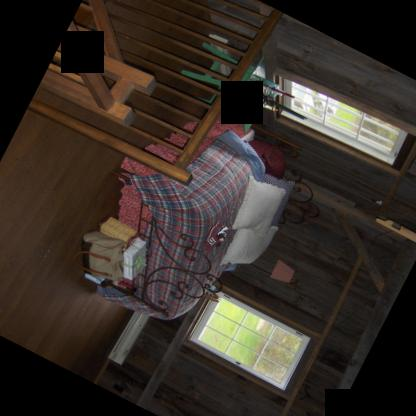handbag: (71, 231, 125, 282)
